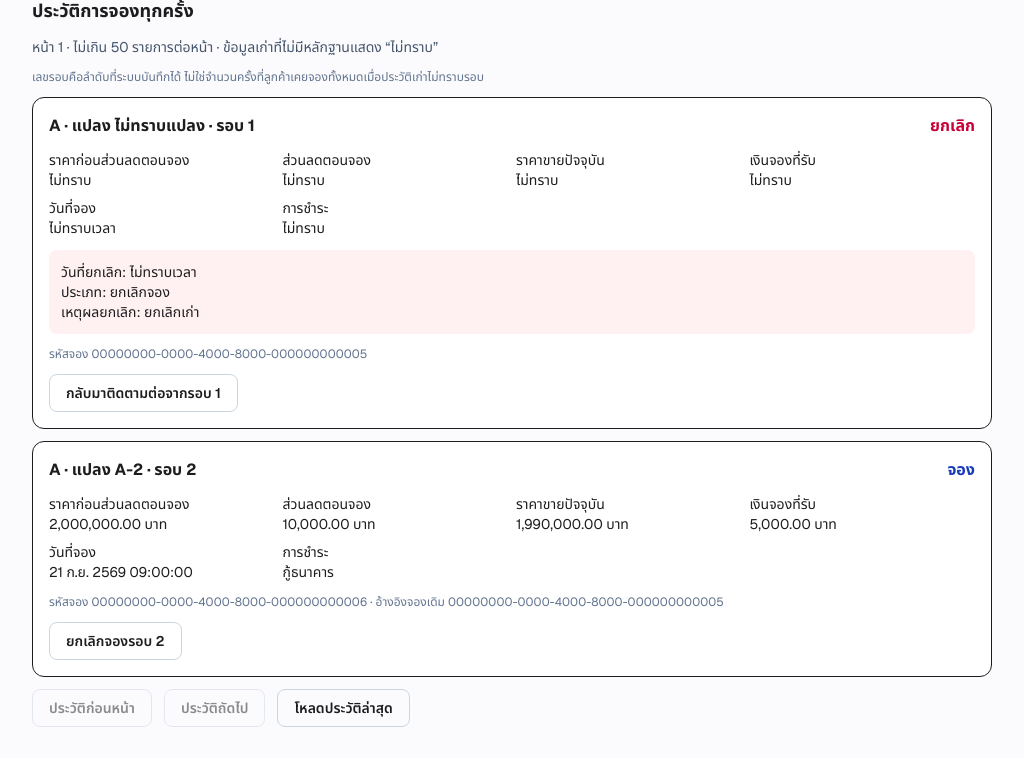
Test case: central booking workspace › permits correction only after a definitive first rejection
(page scrolled)
Click the button "ยกเลิกจองรอบ 2" at (115,641), box [49,622,182,660]
(page scrolled)
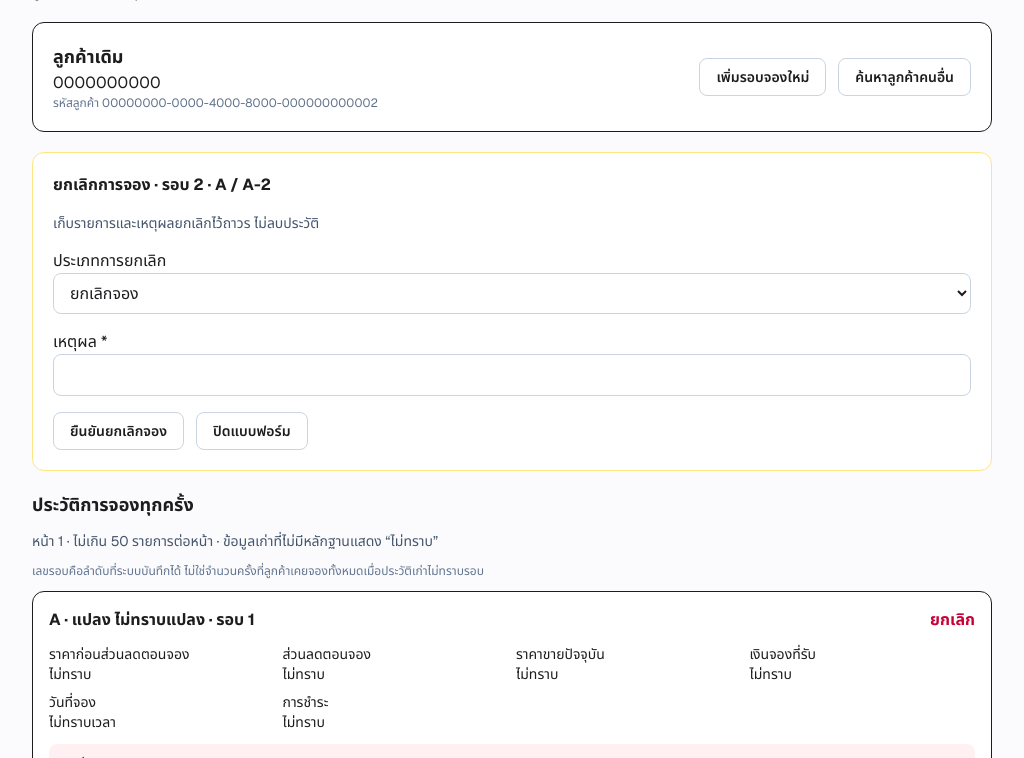
Type "ลูกค้าขอยกเลิก" into the field labelled "เหตุผล *" at (512,375), box [53,354,971,396]
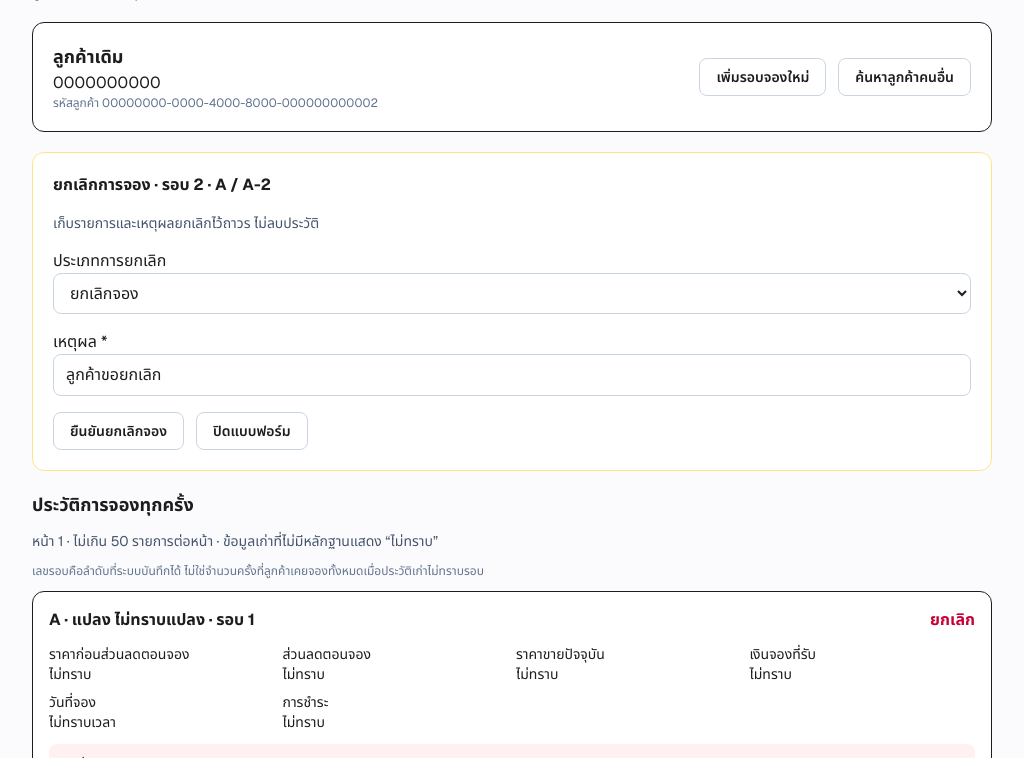
Submit the form "ยกเลิกการจอง", box [32,152,992,471]
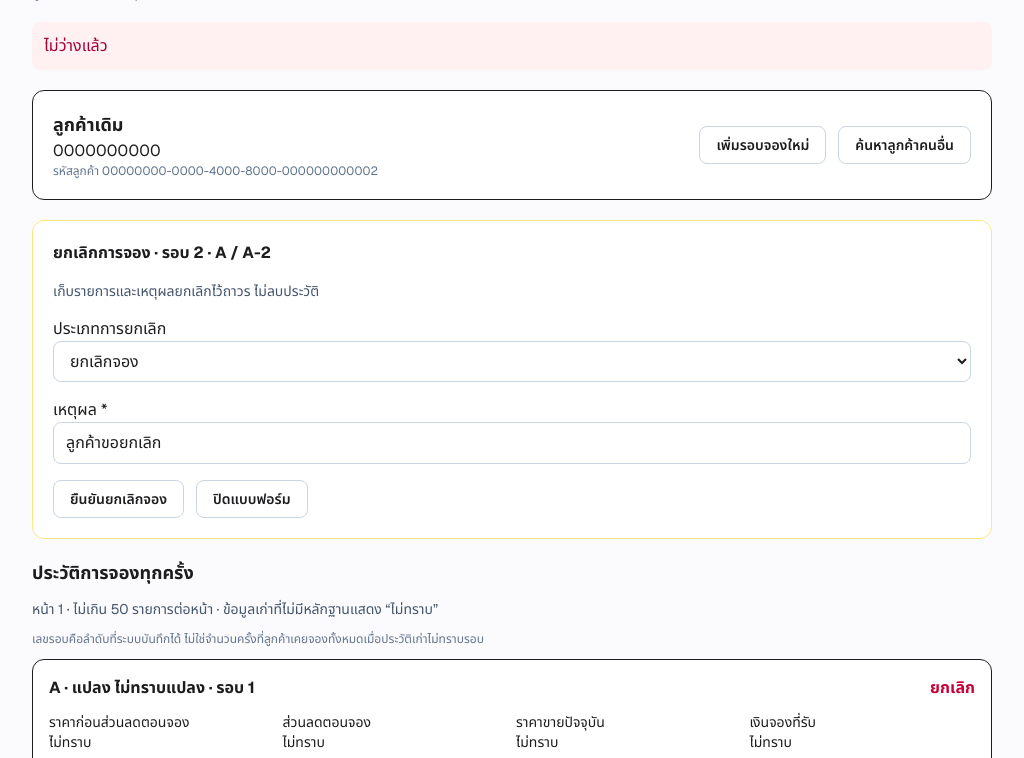
Expected: the field labelled "เหตุผล *" is enabled, [53,422,971,464]
Expected: the message reads "ไม่ว่างแล้ว", [44,35,108,56]
